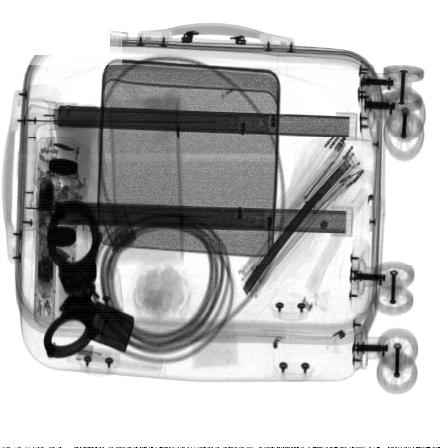Baton: (33, 144, 60, 328)
HandCuffs: (42, 196, 102, 361)
Lighter: (84, 300, 135, 354)
